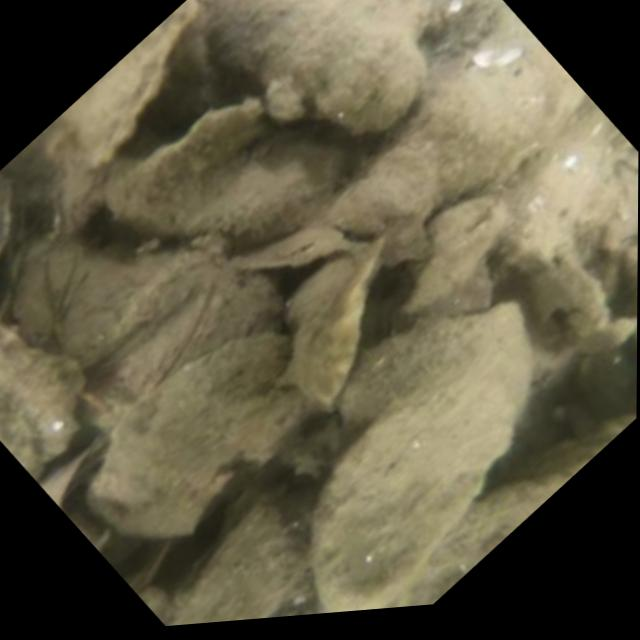Oyster-Indeterminate: (314, 295, 539, 611), (11, 245, 282, 422), (75, 332, 291, 537), (43, 0, 195, 211), (214, 0, 428, 135), (110, 128, 339, 246), (0, 324, 86, 482), (396, 194, 501, 310), (327, 140, 444, 236)
